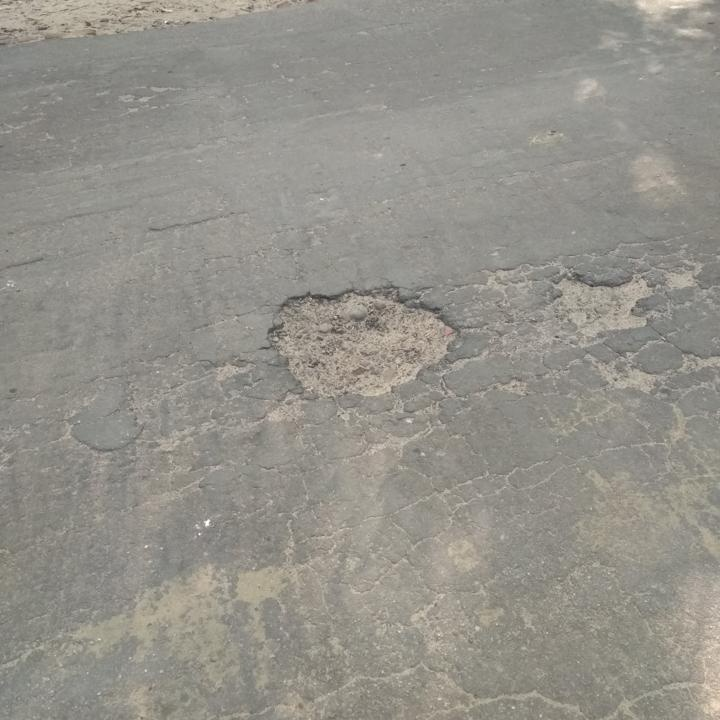pothole: (266, 281, 464, 400), (547, 265, 658, 336)
